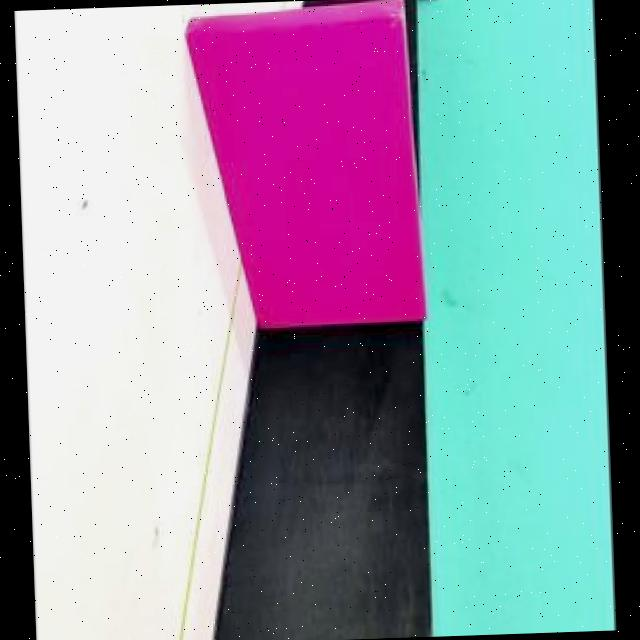xparking: (186, 16, 406, 320)
